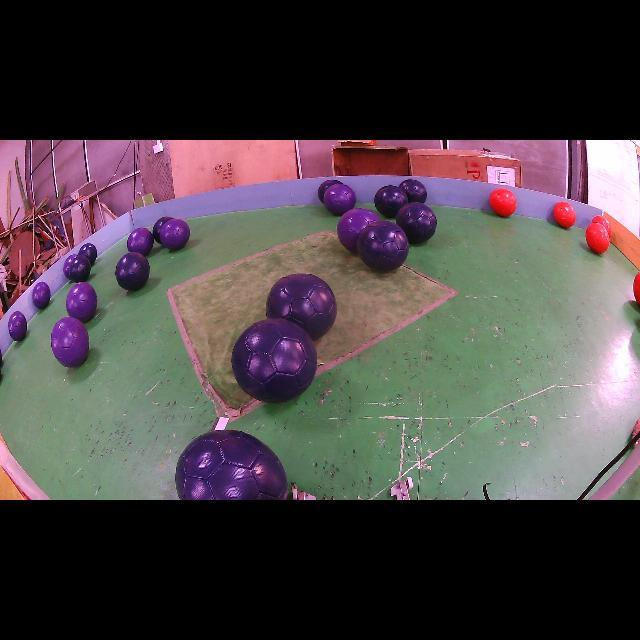B: (175, 430, 288, 500), (231, 318, 318, 402), (266, 274, 338, 340), (358, 221, 409, 271), (396, 202, 438, 244), (115, 252, 150, 290), (374, 185, 408, 218), (399, 179, 428, 203), (69, 255, 91, 282), (152, 216, 172, 244), (318, 179, 342, 202), (79, 244, 98, 265)
P: (51, 316, 89, 368), (338, 208, 380, 252), (66, 281, 98, 322), (324, 182, 356, 215), (160, 219, 190, 250), (128, 228, 154, 256), (9, 311, 28, 341), (32, 281, 50, 309), (62, 254, 78, 279)
R: (585, 222, 610, 254), (490, 188, 516, 216), (554, 201, 576, 228), (592, 215, 611, 237), (634, 272, 640, 305)
